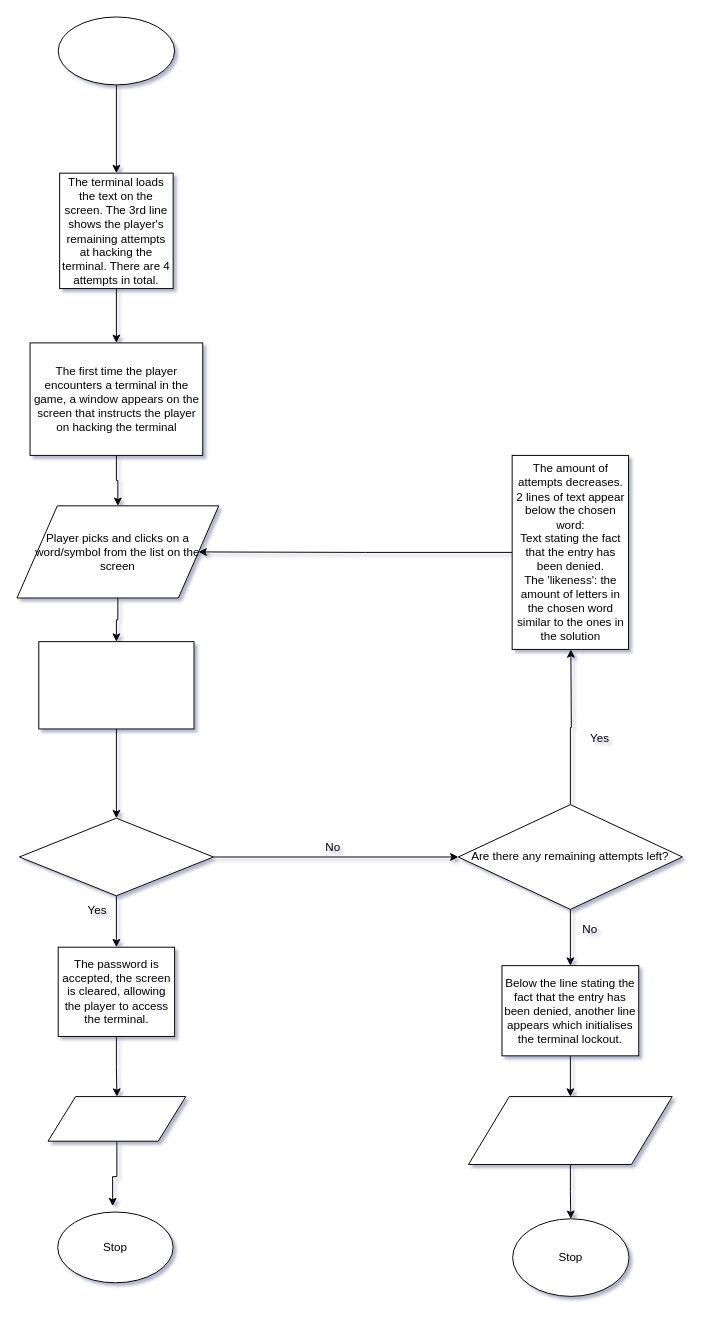
Some shapes in this 705 by 1319 pixel diagram are drawn without their labels. Each missing label, with the centre of its shape:
Player gets kicked out of the minigame.: pixel 570 1130
Player solves the minigame.: pixel 116 1118
Start: pixel 116 50
The word chosen by the player appears on the right-hand side of the screen.: pixel 116 685
Was the entry accepted?: pixel 115 856
